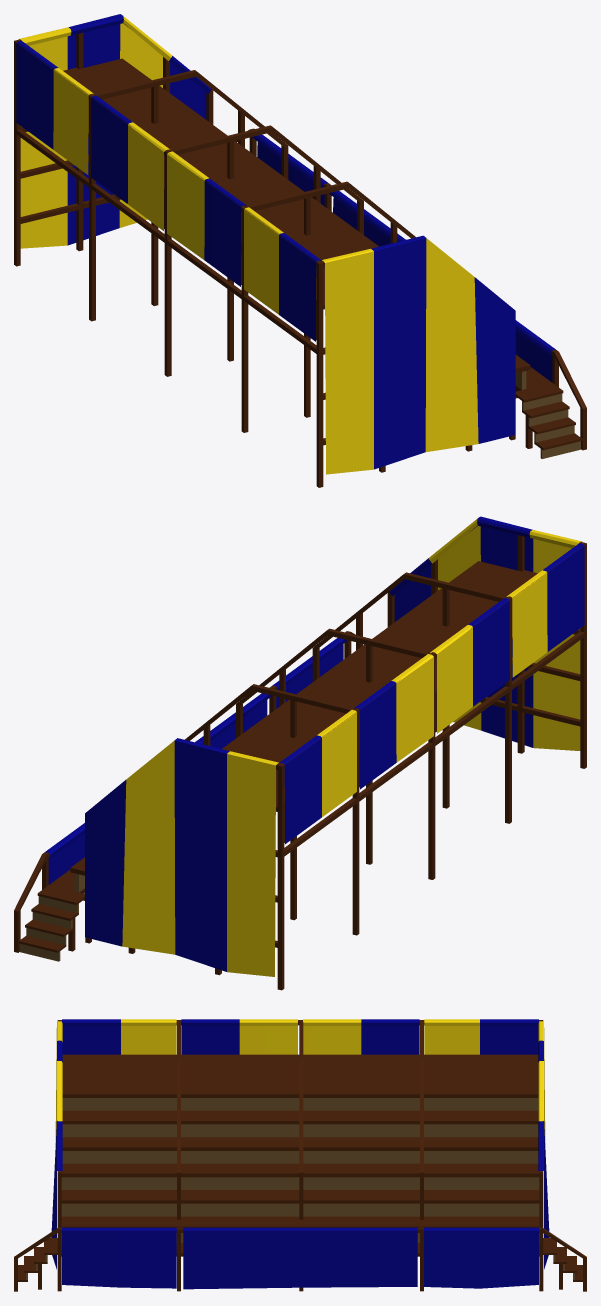
The model's file is Platform_blue_yellow.obj.
The picture shows the model from 3 angles, top to bottom: view 1: azimuth 30°, elevation 25°; view 2: azimuth 150°, elevation 25°; view 3: azimuth 270°, elevation 25°; orthographic projection. The views are drawn at different scales.
Parts seen in each view (by area): view 1: Platform_01; view 2: Platform_01; view 3: Platform_01.
Boxes of the visible parts, left/top/right/bottom form: Platform_01: left=14, top=14, right=586, bottom=487; Platform_01: left=14, top=516, right=586, bottom=990; Platform_01: left=14, top=1019, right=586, bottom=1291.
Bounding box in the file's own units: 5.63 × 4.96 × 14.4.
